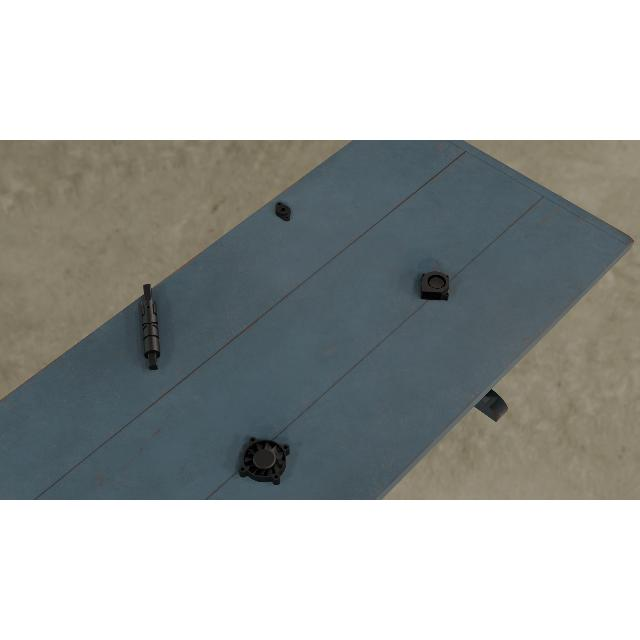Pieza1: (138, 281, 162, 373)
Pieza2: (271, 199, 295, 223)
Pieza3: (420, 270, 450, 302)
Pieza4: (237, 436, 291, 486)
